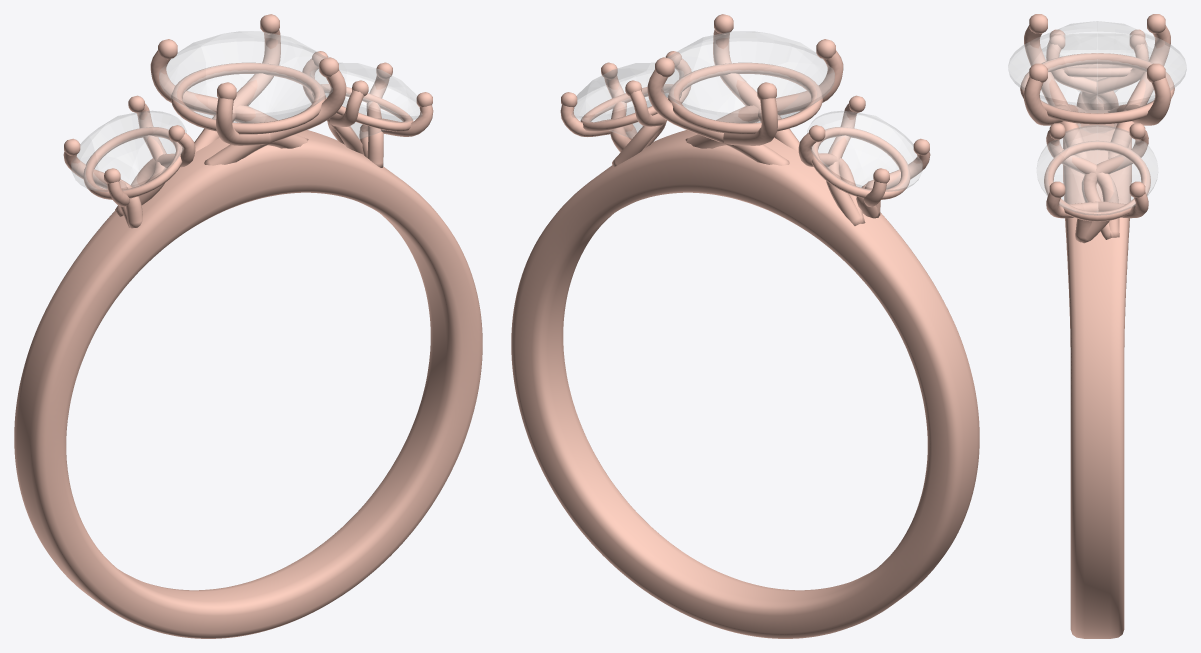
File: ring-01.glb
3 renders of one model, left to right at view 1: azimuth 30°, elevation 25°; view 2: azimuth 150°, elevation 25°; view 3: azimuth 270°, elevation 25°, orthographic.
Parts seen in each view (by area): view 1: Ring_01_Band, Ring_01_Settings, Ring_01_Diamonds; view 2: Ring_01_Band, Ring_01_Settings, Ring_01_Diamonds; view 3: Ring_01_Band, Ring_01_Settings, Ring_01_Diamonds.
Part boxes in pixels (x1,y1,x2,y2): Ring_01_Band: (14,130,482,638); Ring_01_Settings: (63,14,433,228); Ring_01_Diamonds: (71,31,421,191); Ring_01_Band: (511,130,979,638); Ring_01_Settings: (560,14,930,225); Ring_01_Diamonds: (572,31,922,191); Ring_01_Band: (1063,110,1131,638); Ring_01_Settings: (1020,14,1174,243); Ring_01_Diamonds: (1008,21,1186,215).
Bounding box in the file's own units: 2 × 2.45 × 0.6895.
